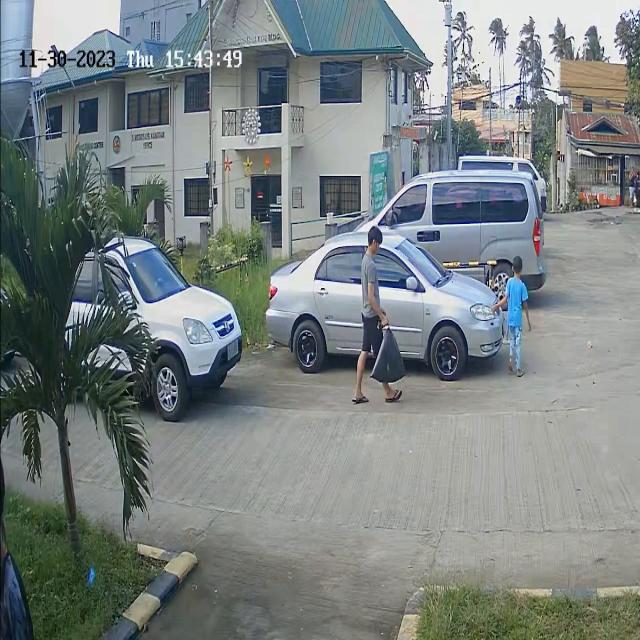garbage: (369, 322, 410, 387)
person: (503, 258, 530, 352), (357, 256, 390, 331), (12, 45, 41, 72)
